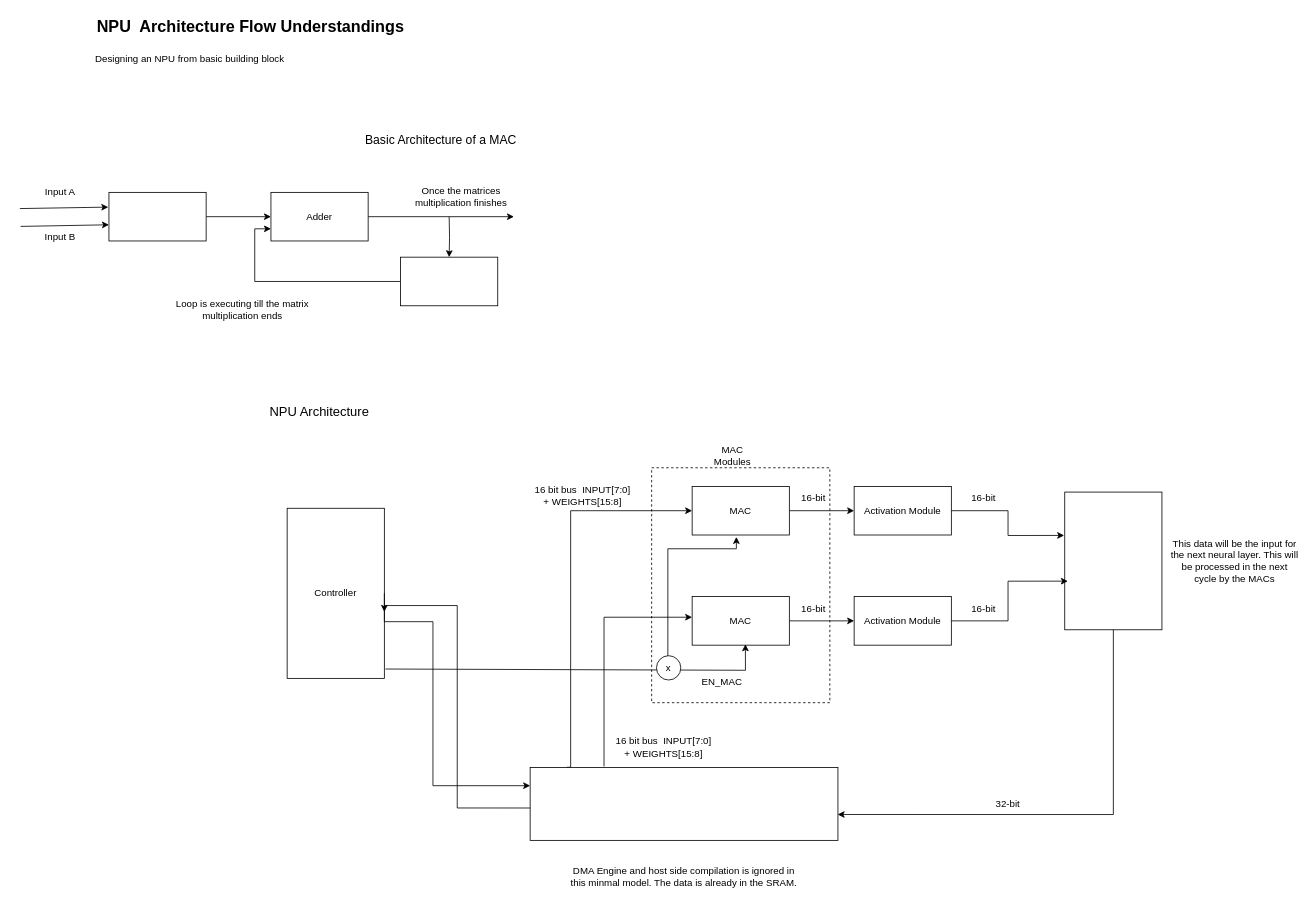
This 1314x902 diagram has some shape labels left out. Here are the shapes that lost their labels. From the top down, the centre of each, then its label:
At [157,216]: "Multiplier".
At [449,281]: "Accumulator register".
At [1113,560]: "FIFO Buffer (hold results untill SRAm write completes)".
At [683,803]: "SRAM".
